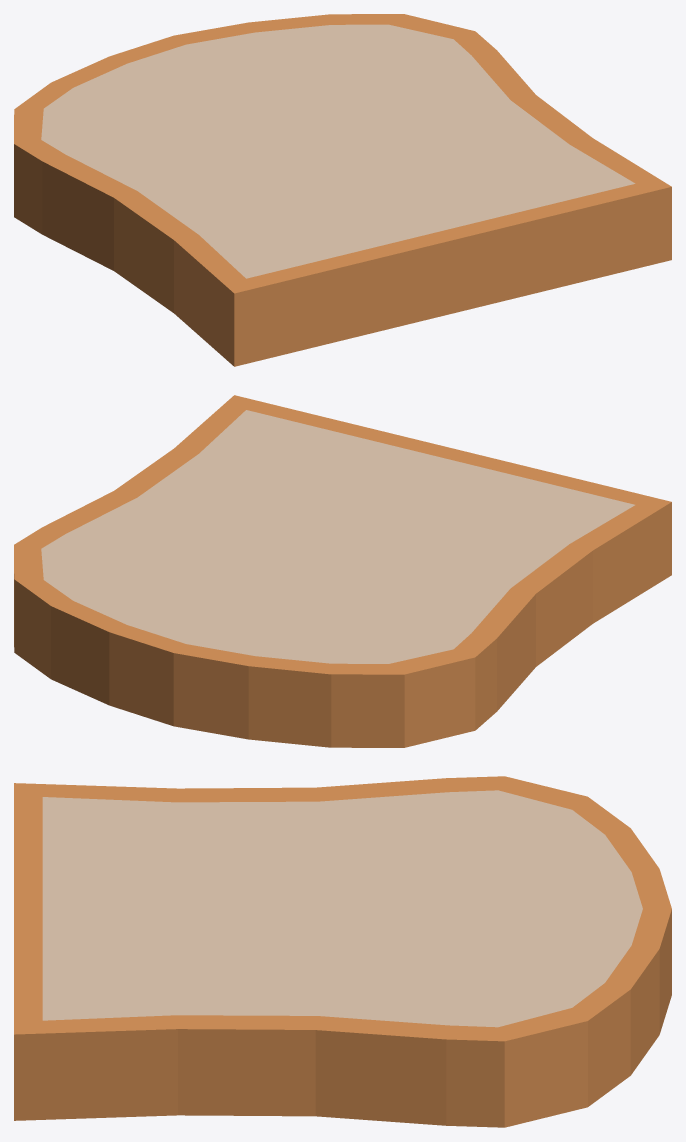
File: SandwichBread.fbx
3 views of the same model, one above another, from view 1: azimuth 30°, elevation 25°; view 2: azimuth 150°, elevation 25°; view 3: azimuth 270°, elevation 25° (orthographic). The views are drawn at different scales.
Parts seen in each view (by area): view 1: SandwichBread; view 2: SandwichBread; view 3: SandwichBread.
Boxes of the visible parts, box(x1,y1,x2,y2) form: SandwichBread: box(14, 14, 671, 366); SandwichBread: box(14, 395, 671, 747); SandwichBread: box(14, 776, 671, 1127).
Size of the model in its own units: 79.88 by 12.13 by 83.79.
